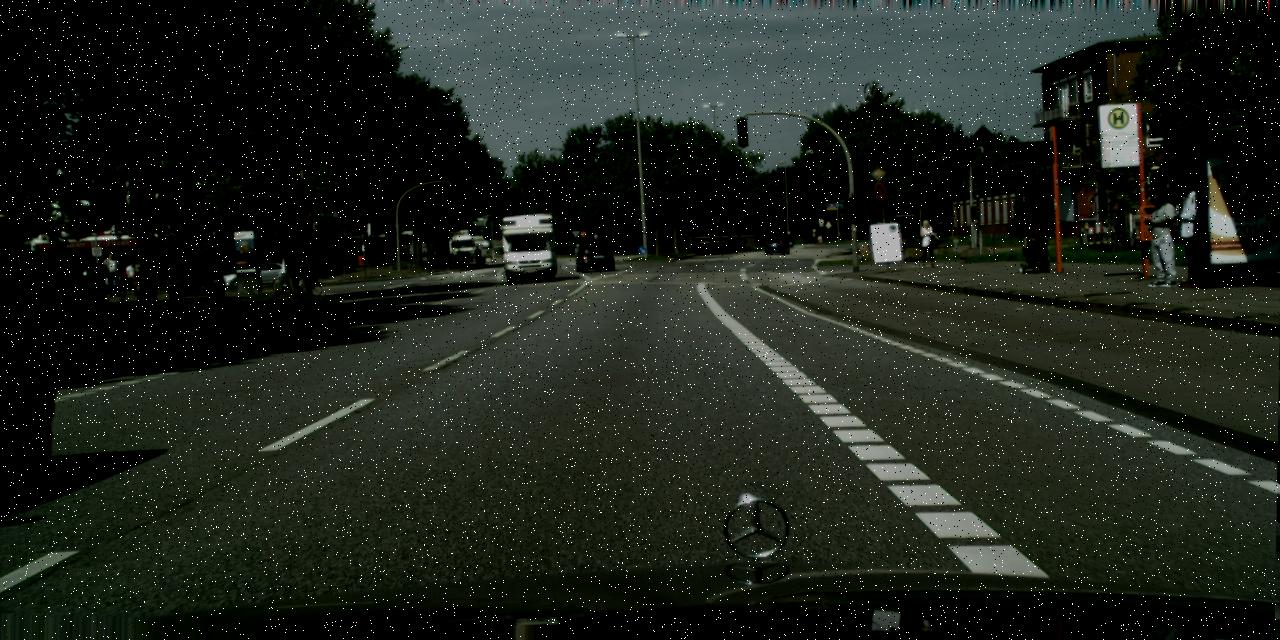ped: (1166, 181, 1209, 286), (1140, 192, 1178, 285), (918, 220, 936, 266), (103, 251, 121, 295), (1022, 220, 1040, 264), (126, 261, 138, 291), (426, 250, 433, 270), (474, 245, 481, 262), (786, 230, 792, 242), (839, 230, 842, 239)
